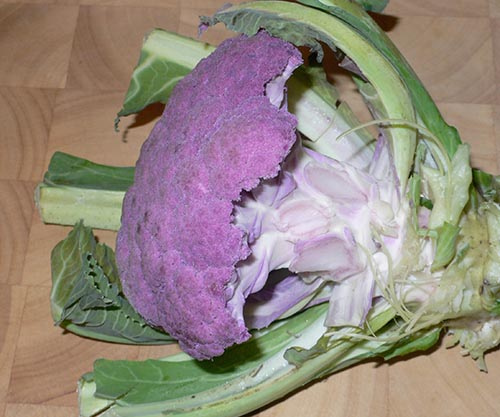cauliflower: (33, 0, 498, 413)
